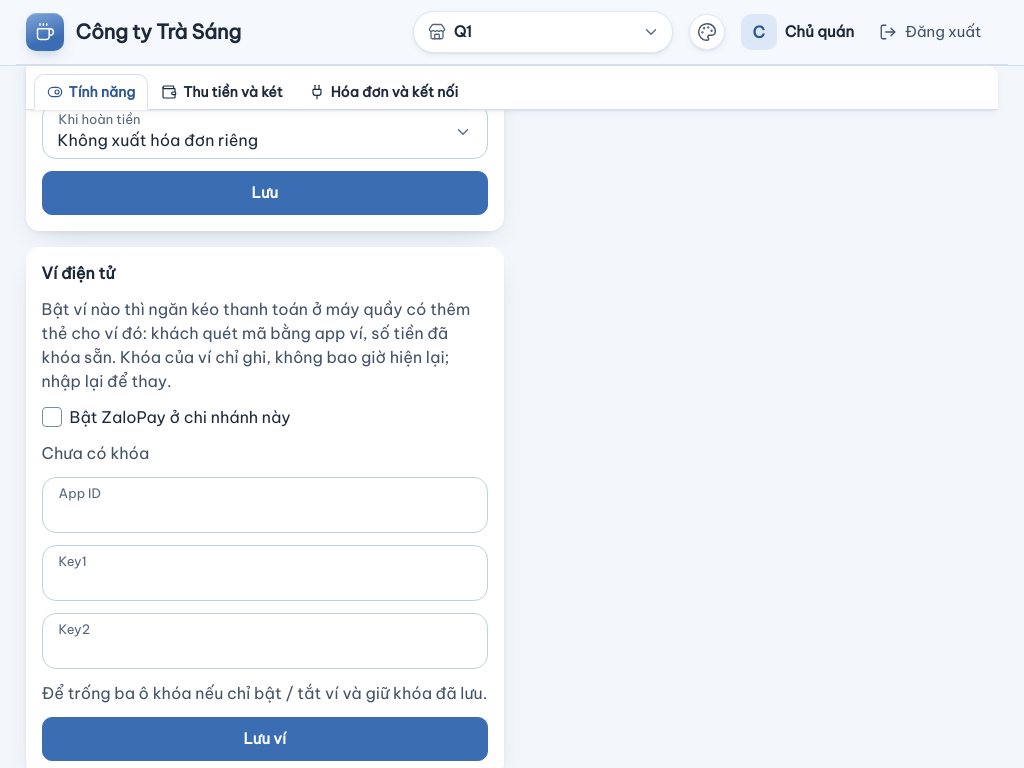
Test case: the e-wallets of a branch › will not turn a wallet on without keys, and sends nothing
This screenshot has width=1024, height=768.
(page scrolled)
Expected: the dropdown named "Chi nhánh đang xem" is shown, [413,11,673,53]
Expected: the heading "Ví điện tử" is shown, [42,262,115,282]
Step 1. Click the checkbox labelled "Bật ZaloPay ở chi nhánh này" → (52, 416), box [42,406,62,426]
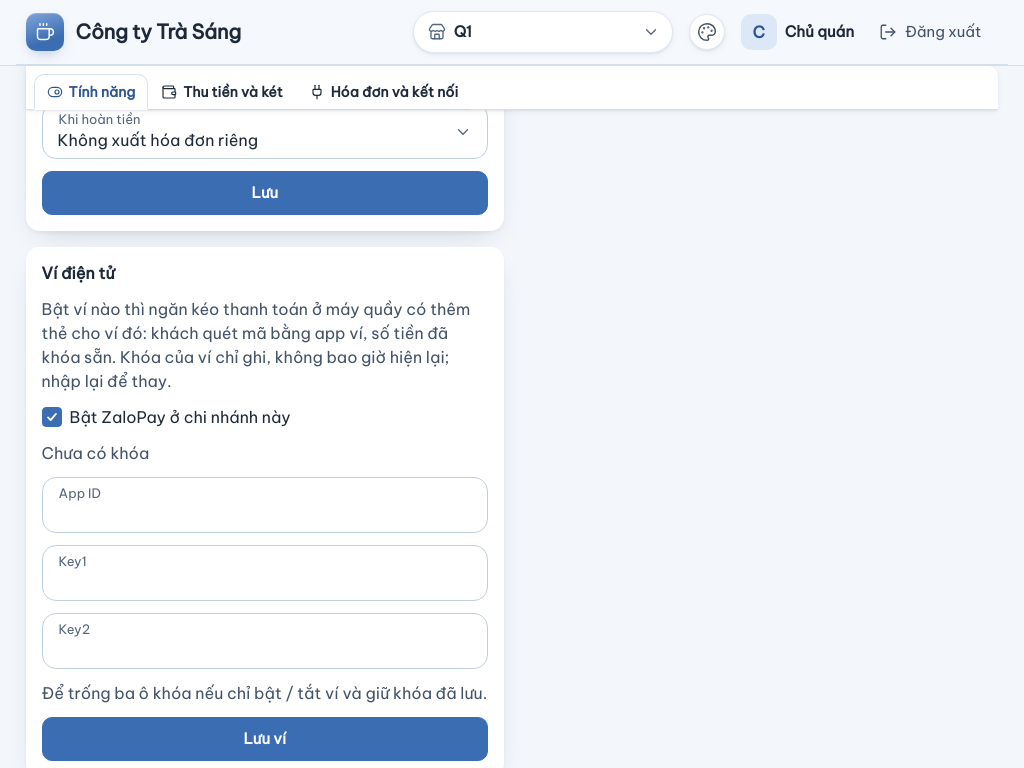
Step 2. Click the button "Lưu ví" → (265, 738), box [42,716,488,760]
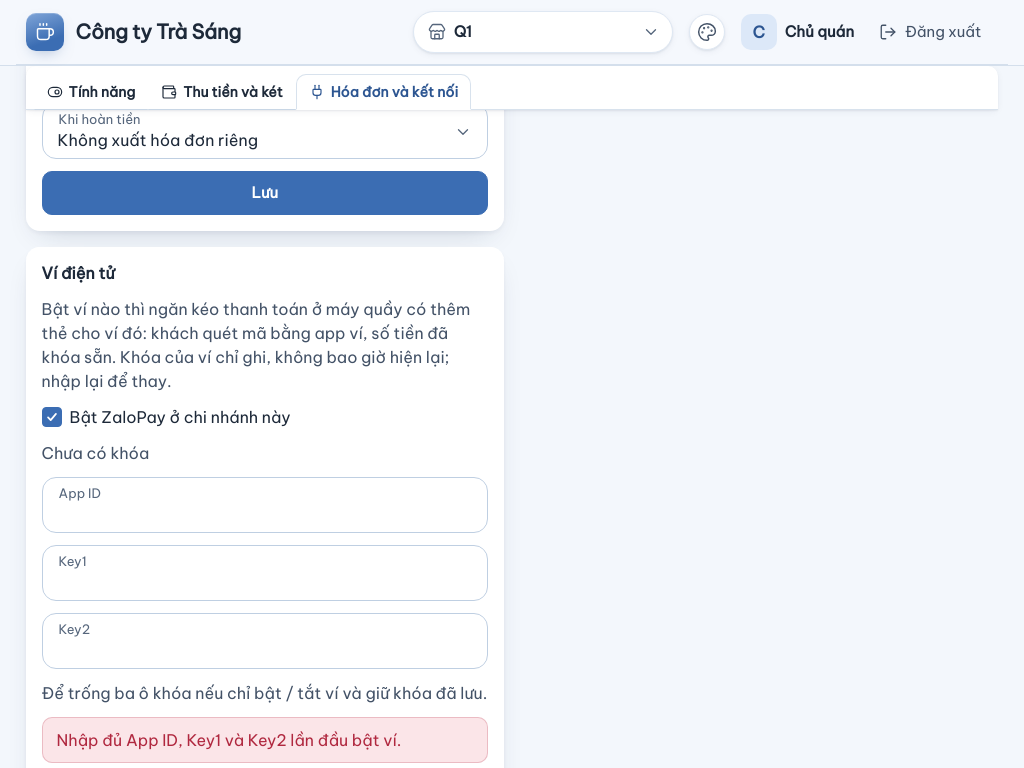
Result: the text "Nhập đủ App ID, Key1 và Key2 lần đầu bật ví." is shown at [42,716,488,762]
